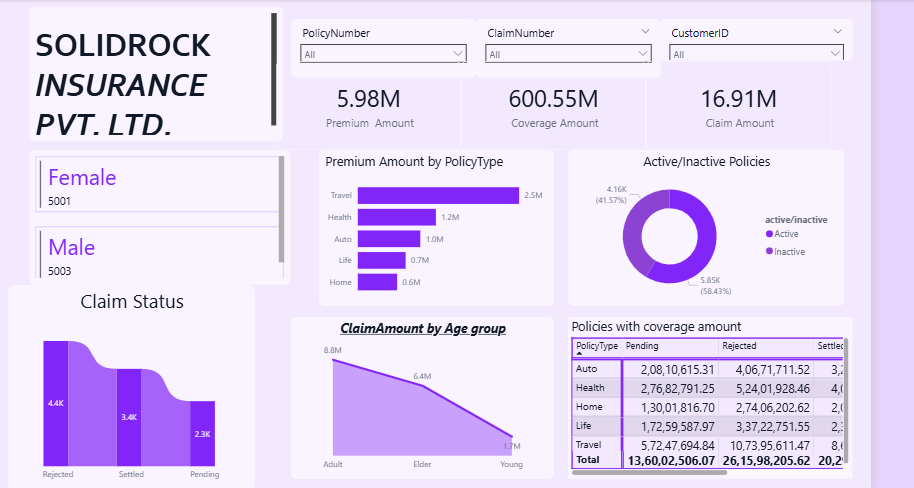

This screenshot's page, from the dashboard's own definition file:
{"tool":"powerbi","page":{"name":"Page 1","canvas":[1280,720],"ordinal":0},"visuals":[{"type":"textbox","box":[44.4,12.2,373.3,196.7],"z":0},{"type":"slicer","fields":{"Values":["InsuranceData.PolicyNumber"]},"box":[429.1,30.3,272.1,85.7],"z":0,"group":"g1"},{"type":"card","fields":{"Values":["Sum(InsuranceData.PremiumAmount)"]},"box":[407.6,91.2,271.7,130.5],"z":0,"group":"g2"},{"type":"group","id":"g1","title":"Group 1","box":[429.1,30,825.8,86],"z":1000},{"type":"slicer","fields":{"Values":["InsuranceData.ClaimNumber"]},"box":[701.2,30.3,272.1,85.7],"z":1000,"group":"g1"},{"type":"card","fields":{"Values":["Sum(InsuranceData.CoverageAmount)"]},"box":[679.3,91.2,271.7,130.5],"z":1000,"group":"g2"},{"type":"slicer","fields":{"Values":["InsuranceData.CustomerID"]},"box":[970.7,30,284.2,61.2],"z":2000,"group":"g1"},{"type":"group","id":"g2","title":"Group 2","box":[407.6,91.2,815.2,130.5],"z":2000},{"type":"card","fields":{"Values":["Sum(InsuranceData.ClaimAmount)"]},"box":[951.1,91.2,271.7,130.5],"z":2000,"group":"g2"},{"type":"multiRowCard","fields":{"Values":["InsuranceData.Gender","CountNonNull(InsuranceData.Gender)"]},"box":[44.4,222.2,384.4,197.8],"z":3000},{"type":"ribbonChart","title":" Claim Status","fields":{"Category":["InsuranceData.ClaimStatus"],"Y":["CountNonNull(InsuranceData.ClaimStatus)"]},"box":[12.5,420.1,362.9,300.3],"z":4000},{"type":"barChart","fields":{"Category":["InsuranceData.PolicyType"],"Y":["Sum(InsuranceData.PremiumAmount)"]},"box":[470.2,221.7,345,228.8],"z":5000},{"type":"lineChart","fields":{"Category":["InsuranceData.Age group"],"Y":["Sum(InsuranceData.ClaimAmount)"]},"box":[429.1,466.6,386.1,237.8],"z":6000},{"type":"donutChart","title":"Active/Inactive Policies","fields":{"Category":["InsuranceData.active/inactive"],"Y":["CountNonNull(InsuranceData.active/inactive)"]},"box":[836.6,221.7,405.8,228.8],"z":7000},{"type":"pivotTable","title":"Policies with coverage amount  ","fields":{"Values":["Sum(InsuranceData.CoverageAmount)"],"Rows":["InsuranceData.PolicyType"],"Columns":["InsuranceData.ClaimStatus"]},"box":[836.6,466.6,418.3,237.8],"z":8000}]}

Visuals, with their boxes on the page's 1280x720 design canvas (x1, y1, x2, y2). These are canvas units, not pixel positions in the 914x488 screenshot, which may show the page scaled, cropped or inside an application window:
textbox: 44:12:418:209
slicer - InsuranceData.PolicyNumber: 429:30:701:116
card - Sum(InsuranceData.PremiumAmount): 408:91:679:222
"Group 1" group: 429:30:1255:116
slicer - InsuranceData.ClaimNumber: 701:30:973:116
card - Sum(InsuranceData.CoverageAmount): 679:91:951:222
slicer - InsuranceData.CustomerID: 971:30:1255:91
"Group 2" group: 408:91:1223:222
card - Sum(InsuranceData.ClaimAmount): 951:91:1223:222
multiRowCard - InsuranceData.Gender x CountNonNull(InsuranceData.Gender): 44:222:429:420
" Claim Status" ribbonChart: 12:420:375:720
barChart - InsuranceData.PolicyType x Sum(InsuranceData.PremiumAmount): 470:222:815:450
lineChart - InsuranceData.Age group x Sum(InsuranceData.ClaimAmount): 429:467:815:704
"Active/Inactive Policies" donutChart: 837:222:1242:450
"Policies with coverage amount  " pivotTable: 837:467:1255:704
